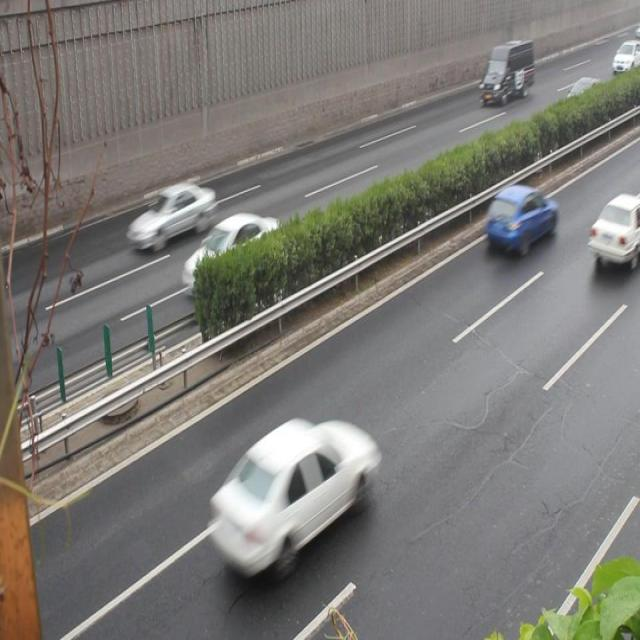car: (206, 420, 376, 572), (179, 212, 284, 293), (126, 182, 215, 252), (484, 184, 558, 254), (586, 191, 640, 264), (558, 78, 606, 122)
truck: (479, 37, 534, 105)
